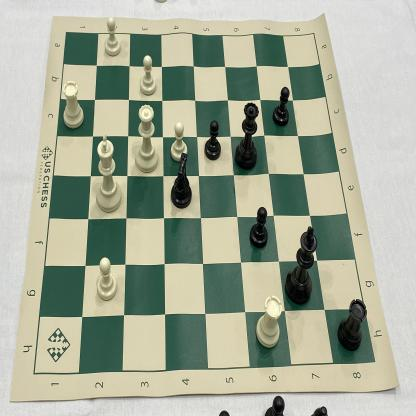black-king: (285, 224, 316, 306)
black-knight: (169, 152, 195, 210)
black-pawn: (249, 205, 270, 247), (271, 85, 291, 127), (203, 120, 221, 162)
black-queen: (233, 99, 260, 170)
black-rook: (339, 296, 368, 353)
white-king: (94, 133, 122, 215)
white-pawn: (94, 254, 118, 303), (137, 53, 158, 98), (169, 121, 188, 162), (104, 16, 122, 58)
white-queen: (134, 103, 161, 173)
white-rook: (254, 293, 282, 349), (60, 78, 86, 130)
